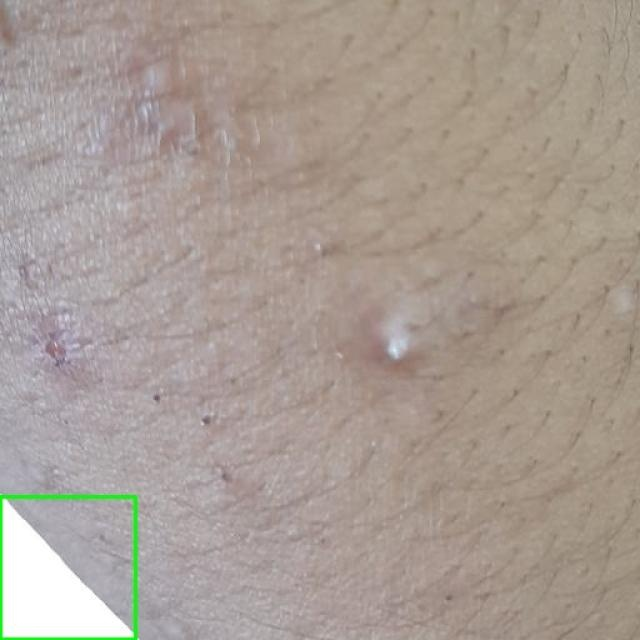Scabies: (0, 496, 135, 639)
